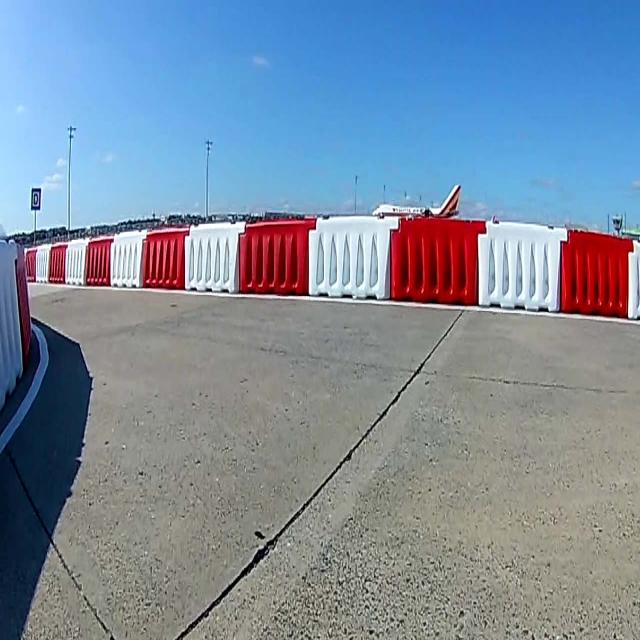durak: (31, 189, 41, 210)
